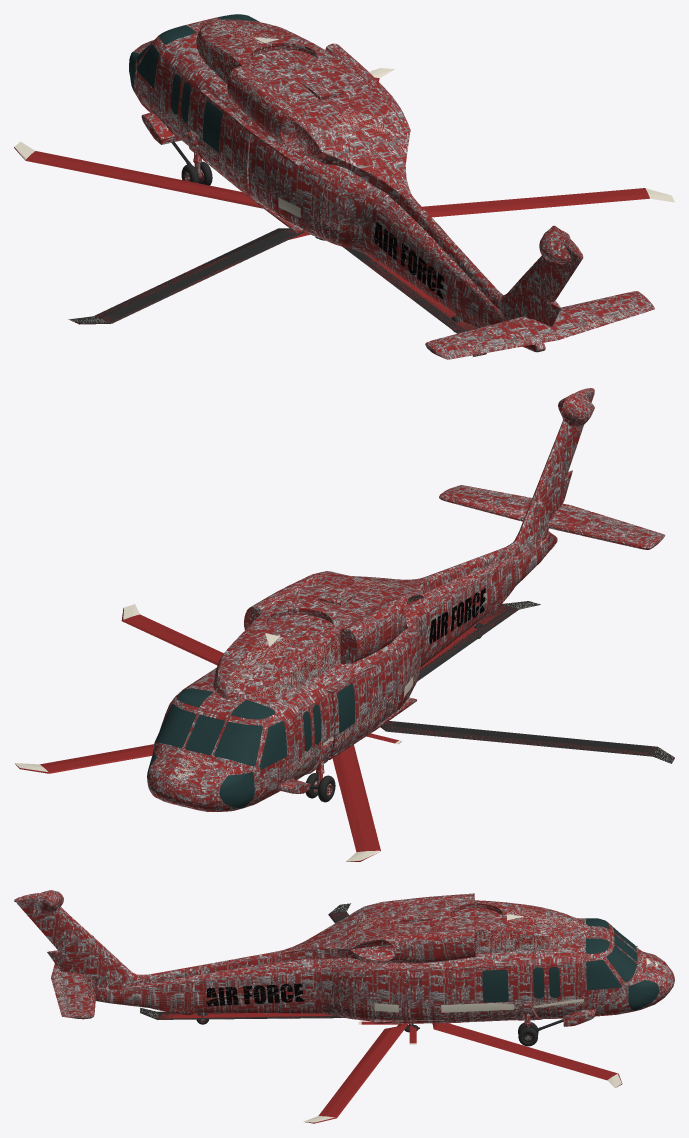
File: HELICOPTER-uh60.fbx
The picture shows the model from 3 angles, top to bottom: view 1: azimuth 30°, elevation 25°; view 2: azimuth 150°, elevation 25°; view 3: azimuth 270°, elevation 25°; orthographic projection. The views are drawn at different scales.
Parts seen in each view (by area): view 1: UH60_M_bootcamo, Rotor; view 2: UH60_M_bootcamo, Rotor; view 3: UH60_M_bootcamo, Rotor.
Boxes of the visible parts, x1=… form: UH60_M_bootcamo: x1=129, y1=14, x2=654, y2=359; Rotor: x1=14, y1=68, x2=674, y2=356; UH60_M_bootcamo: x1=147, y1=388, x2=665, y2=811; Rotor: x1=14, y1=601, x2=674, y2=861; UH60_M_bootcamo: x1=14, y1=890, x2=674, y2=1046; Rotor: x1=140, y1=903, x2=622, y2=1123.
Size of the model in its own units: 1198 by 353 by 1525.
